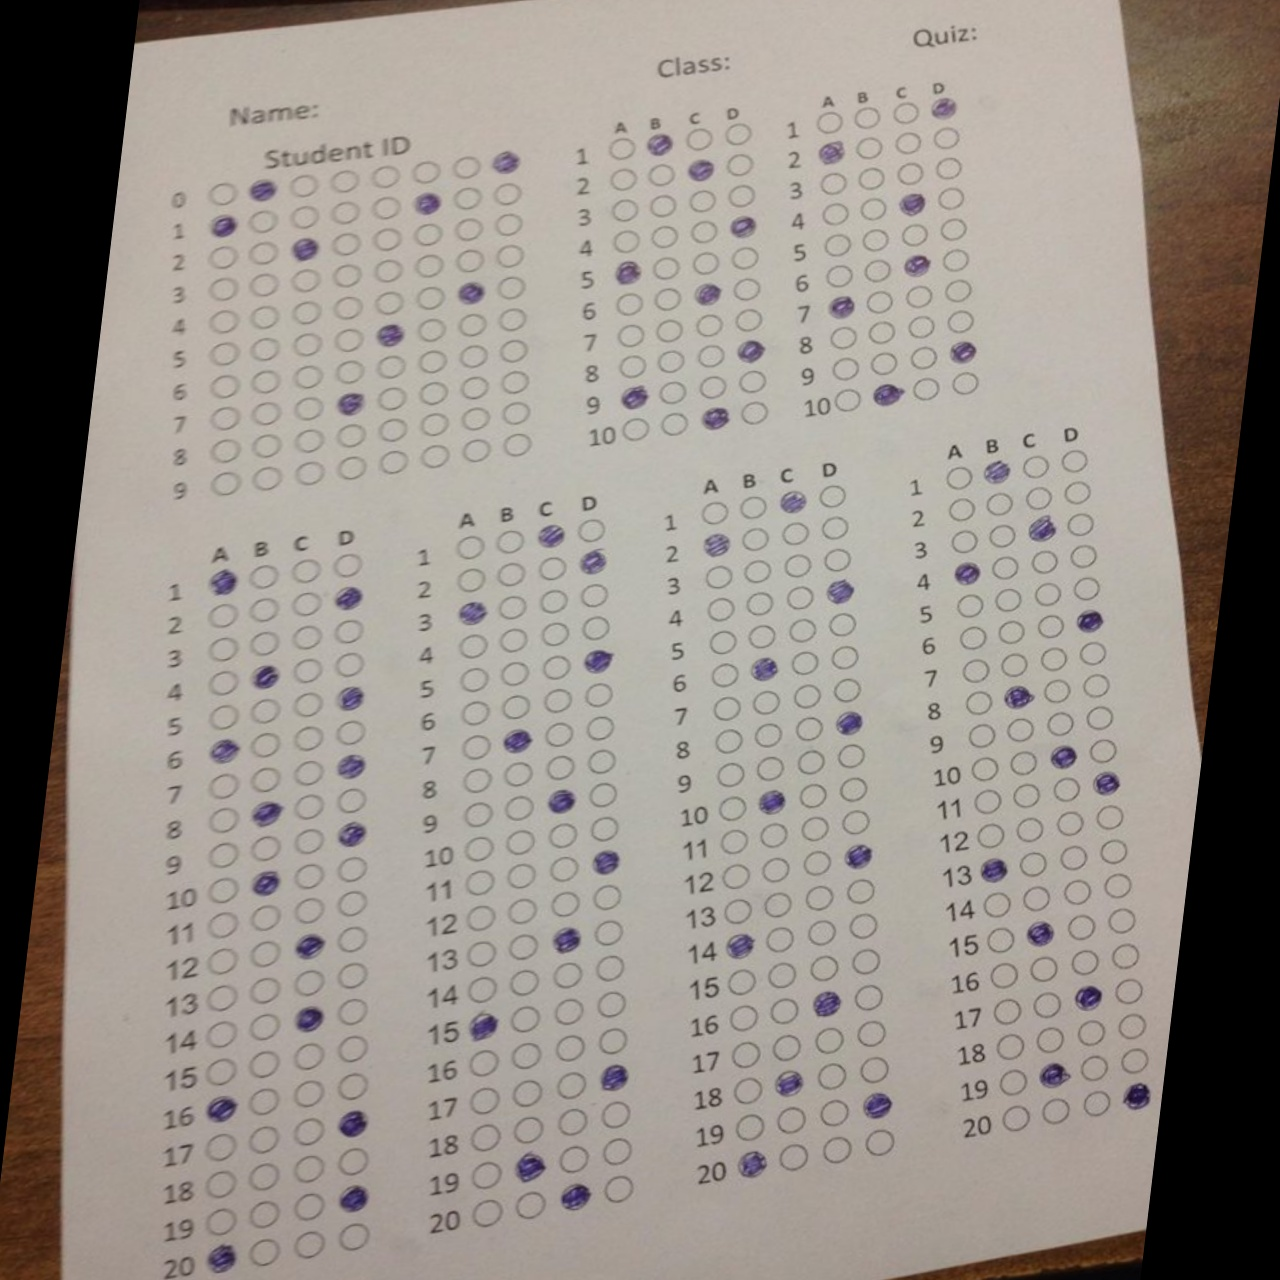not-c: (287, 1040, 328, 1074), (199, 1020, 241, 1051), (338, 1219, 375, 1253), (598, 1136, 636, 1169), (862, 1126, 900, 1159), (334, 853, 375, 884), (241, 1235, 282, 1266), (470, 1158, 505, 1193), (335, 1032, 372, 1065), (600, 1172, 636, 1206), (465, 1121, 503, 1153), (588, 919, 628, 949), (549, 998, 590, 1027), (817, 1096, 852, 1130), (506, 967, 544, 999), (549, 958, 586, 989), (509, 1077, 546, 1109), (811, 1061, 849, 1092), (772, 1105, 810, 1137), (202, 946, 240, 976), (246, 1159, 279, 1194), (204, 908, 241, 939), (246, 939, 284, 969), (334, 924, 372, 954), (333, 996, 370, 1027), (203, 1055, 240, 1085), (597, 1098, 634, 1129), (470, 1197, 508, 1227), (332, 420, 370, 449), (202, 983, 240, 1013), (544, 821, 584, 849), (726, 1039, 765, 1067), (247, 1012, 280, 1046), (554, 1107, 588, 1139), (588, 813, 624, 845), (553, 1034, 588, 1065), (459, 436, 496, 467), (293, 968, 329, 999), (465, 1046, 502, 1076), (511, 1115, 547, 1145), (512, 1191, 549, 1221), (805, 953, 842, 983), (770, 1034, 806, 1064), (245, 1050, 282, 1080), (464, 975, 502, 1005), (794, 779, 831, 809), (287, 656, 326, 685), (334, 962, 373, 990), (578, 683, 617, 712), (456, 767, 495, 795), (206, 1169, 239, 1201), (559, 1143, 593, 1175), (855, 1019, 888, 1050), (983, 925, 1017, 956), (338, 1073, 373, 1103), (293, 1228, 328, 1259), (799, 847, 835, 878), (763, 960, 798, 990), (334, 719, 370, 748), (291, 1155, 327, 1184), (246, 1200, 282, 1230), (842, 877, 878, 906), (847, 982, 884, 1012), (290, 794, 327, 822), (554, 1073, 592, 1101), (775, 1143, 812, 1171), (459, 869, 498, 896), (294, 1191, 327, 1223), (592, 881, 626, 912), (617, 350, 651, 381), (930, 122, 964, 152), (942, 461, 976, 491), (990, 996, 1024, 1027), (376, 448, 411, 477), (336, 1148, 372, 1177), (1039, 1097, 1074, 1126), (461, 906, 501, 932), (544, 754, 580, 782), (508, 1041, 544, 1069), (203, 179, 240, 206), (204, 843, 241, 870), (291, 896, 328, 922), (546, 892, 584, 919), (587, 747, 620, 777), (1115, 1014, 1148, 1044), (414, 285, 448, 314), (290, 590, 324, 619), (204, 1206, 238, 1235), (455, 629, 489, 659), (501, 794, 535, 823), (607, 196, 641, 225), (840, 808, 874, 837), (764, 926, 798, 955), (1119, 1046, 1153, 1075), (290, 557, 325, 585), (206, 806, 241, 835), (248, 976, 284, 1005), (506, 932, 542, 960), (723, 152, 758, 181), (692, 343, 727, 372), (799, 813, 835, 842), (758, 892, 794, 920), (801, 885, 836, 913), (846, 913, 881, 941), (730, 1077, 765, 1105), (1109, 942, 1144, 971), (247, 699, 284, 726), (205, 772, 241, 799), (502, 863, 538, 890), (250, 433, 287, 458), (535, 588, 572, 614), (454, 666, 491, 692), (542, 723, 579, 749), (726, 1005, 763, 1030), (1082, 1088, 1114, 1118), (250, 764, 282, 794), (248, 1125, 281, 1155), (697, 374, 730, 403), (251, 463, 285, 491), (336, 788, 370, 816), (495, 560, 529, 588), (499, 661, 533, 689), (459, 801, 493, 829), (768, 998, 802, 1026), (857, 1056, 891, 1084), (949, 368, 983, 396), (1019, 452, 1053, 481), (986, 520, 1020, 549), (1064, 510, 1098, 538), (1068, 947, 1102, 975), (1032, 990, 1065, 1019), (1111, 978, 1145, 1006), (734, 370, 772, 395), (370, 258, 406, 285), (331, 327, 366, 354), (247, 833, 282, 860), (246, 1087, 281, 1114), (492, 527, 527, 554), (713, 762, 748, 789), (979, 892, 1014, 919), (1026, 956, 1061, 983), (456, 311, 492, 336), (204, 703, 240, 729), (290, 693, 326, 719), (292, 829, 328, 855), (578, 617, 614, 642), (539, 689, 576, 715), (687, 222, 723, 247), (846, 949, 883, 975), (204, 1131, 236, 1160), (742, 557, 774, 586), (823, 1135, 855, 1164), (294, 862, 327, 890), (335, 890, 368, 918), (502, 760, 535, 788), (505, 898, 538, 926), (469, 1087, 502, 1115), (647, 159, 680, 188), (704, 629, 737, 658), (962, 687, 995, 715), (987, 961, 1020, 989), (995, 1068, 1028, 1096), (496, 305, 530, 332), (248, 561, 282, 588), (333, 550, 367, 577), (248, 903, 282, 930), (594, 953, 628, 980), (595, 990, 629, 1017), (723, 120, 757, 147), (709, 695, 743, 722), (794, 715, 828, 742), (833, 742, 867, 769), (720, 897, 754, 924), (967, 755, 1001, 782), (1092, 805, 1126, 832), (1078, 1054, 1112, 1081), (376, 417, 411, 443), (499, 401, 535, 427), (293, 459, 328, 485), (206, 877, 241, 903), (502, 830, 537, 856), (735, 495, 770, 520), (810, 1028, 845, 1054), (457, 701, 493, 726), (802, 920, 838, 945), (503, 430, 533, 459), (946, 306, 976, 335), (247, 237, 279, 265), (333, 358, 365, 386), (542, 621, 573, 649), (586, 782, 618, 810), (597, 1027, 628, 1055), (685, 127, 716, 155), (651, 254, 682, 282), (655, 345, 687, 373), (832, 675, 864, 703), (1103, 873, 1135, 901), (248, 338, 281, 365), (292, 363, 325, 390), (461, 406, 493, 433), (576, 515, 608, 542), (501, 694, 533, 721), (611, 229, 644, 256), (692, 313, 724, 340), (706, 595, 738, 622), (788, 617, 821, 644), (826, 611, 859, 638), (1080, 670, 1112, 697), (1046, 710, 1078, 737), (1065, 915, 1098, 942), (999, 1105, 1032, 1132), (204, 605, 241, 628), (369, 162, 403, 188), (372, 291, 406, 316), (459, 345, 493, 370), (207, 408, 241, 434), (211, 471, 245, 497), (336, 457, 370, 483), (420, 443, 454, 469), (207, 636, 241, 662), (578, 584, 612, 610), (497, 627, 531, 653), (726, 183, 760, 209), (647, 224, 681, 250), (744, 624, 778, 649), (750, 692, 784, 717), (712, 727, 745, 753), (753, 755, 787, 781), (823, 264, 857, 290), (1069, 576, 1103, 601), (1035, 647, 1069, 673), (1075, 641, 1109, 667), (1085, 738, 1119, 764), (851, 104, 885, 130), (410, 159, 445, 184), (370, 226, 406, 251), (290, 268, 325, 293), (290, 626, 325, 651), (737, 401, 772, 425), (867, 350, 903, 375), (294, 758, 325, 787), (1000, 651, 1030, 679), (205, 243, 237, 270), (459, 373, 491, 400), (248, 595, 280, 622), (293, 1080, 325, 1107), (510, 1005, 542, 1032), (687, 188, 719, 215), (733, 308, 764, 335), (741, 523, 772, 550), (837, 776, 869, 803), (906, 345, 938, 372), (946, 495, 978, 522), (1029, 549, 1061, 576), (1068, 544, 1099, 571), (1035, 613, 1067, 640), (975, 821, 1007, 847), (1016, 850, 1048, 877), (1034, 1026, 1065, 1053), (452, 185, 485, 211), (248, 305, 281, 331), (333, 651, 366, 676), (459, 735, 492, 761), (779, 522, 812, 547), (822, 546, 855, 572), (753, 724, 785, 750), (719, 830, 751, 856), (949, 529, 982, 554), (1032, 581, 1064, 607), (959, 658, 992, 683), (972, 788, 1005, 813), (1053, 810, 1085, 836), (993, 1034, 1026, 1060), (413, 254, 447, 279), (207, 341, 241, 366), (292, 397, 326, 422), (248, 632, 282, 656), (329, 171, 365, 195), (331, 264, 366, 287), (206, 375, 241, 399), (209, 440, 244, 463), (794, 682, 823, 710), (719, 794, 748, 822), (825, 326, 860, 349), (1012, 782, 1041, 810), (417, 316, 448, 343), (454, 533, 484, 560), (465, 940, 496, 967), (762, 855, 792, 881), (958, 624, 988, 651), (1053, 776, 1083, 803), (1062, 880, 1092, 907), (290, 173, 321, 199), (492, 182, 524, 207), (248, 272, 280, 298), (333, 621, 365, 647), (294, 726, 326, 751), (549, 857, 580, 883), (690, 251, 722, 277), (729, 246, 761, 272), (612, 292, 644, 318), (615, 324, 647, 349), (653, 316, 685, 342), (699, 498, 730, 524), (816, 483, 847, 509), (819, 516, 851, 542), (783, 552, 815, 578), (728, 968, 760, 994), (731, 1114, 763, 1139), (888, 100, 920, 125), (891, 130, 922, 156), (857, 166, 888, 192), (937, 185, 968, 211), (905, 316, 937, 342), (990, 556, 1022, 581), (411, 223, 444, 247), (495, 275, 527, 300), (292, 333, 325, 358), (295, 428, 328, 452), (418, 411, 451, 436), (729, 278, 762, 302), (789, 648, 822, 673), (932, 156, 965, 181), (818, 202, 851, 226), (660, 411, 694, 435), (744, 593, 778, 617), (859, 229, 893, 252), (1012, 817, 1046, 840), (1022, 884, 1050, 912), (501, 338, 530, 365), (785, 585, 815, 612), (543, 656, 573, 682), (463, 836, 493, 862), (758, 822, 789, 847), (720, 863, 750, 888), (942, 277, 973, 302), (1076, 1020, 1107, 1046), (206, 277, 241, 299), (372, 195, 403, 219), (454, 250, 485, 274), (333, 297, 365, 321), (585, 716, 617, 741), (649, 195, 681, 219), (1009, 750, 1041, 775), (291, 302, 324, 326), (817, 171, 850, 195), (938, 217, 971, 240), (1003, 719, 1036, 742), (295, 1118, 324, 1145), (492, 215, 526, 237), (618, 417, 652, 440), (908, 377, 942, 400), (450, 155, 479, 181), (498, 595, 527, 621), (660, 380, 689, 406), (832, 386, 862, 411), (1109, 906, 1138, 932), (375, 355, 406, 380), (211, 670, 241, 695), (831, 646, 862, 670), (1061, 450, 1091, 475), (967, 722, 998, 747), (1083, 704, 1114, 729), (816, 111, 847, 135), (866, 320, 898, 343), (829, 358, 860, 381), (331, 234, 363, 257), (207, 311, 240, 333), (379, 388, 407, 414), (499, 372, 527, 397), (986, 490, 1014, 516), (1058, 845, 1087, 871), (250, 402, 279, 427), (709, 663, 738, 688), (866, 290, 896, 314), (1043, 679, 1073, 703), (418, 382, 449, 406), (538, 554, 568, 578), (1026, 486, 1056, 510), (993, 588, 1023, 612), (290, 206, 321, 229), (1099, 839, 1126, 865), (252, 368, 280, 393), (457, 568, 490, 590), (610, 138, 638, 163), (610, 166, 638, 191), (332, 200, 361, 224), (253, 734, 282, 757), (857, 198, 886, 222), (864, 259, 893, 282), (904, 286, 933, 309), (899, 223, 930, 245), (996, 622, 1027, 645), (654, 288, 681, 313), (452, 218, 481, 241), (248, 209, 278, 231), (493, 246, 523, 268), (893, 163, 922, 185), (824, 234, 853, 257), (1064, 482, 1095, 503), (704, 565, 731, 588), (795, 751, 823, 774), (855, 137, 883, 159), (956, 594, 985, 617), (418, 350, 448, 372), (939, 250, 968, 270)
taken-c: (336, 1180, 377, 1216), (1071, 983, 1111, 1017), (576, 546, 617, 579), (200, 1240, 238, 1275), (248, 659, 287, 693), (336, 1108, 375, 1141), (542, 787, 583, 817), (464, 1008, 505, 1039), (290, 934, 332, 964), (558, 1180, 593, 1216), (734, 1150, 770, 1182), (549, 926, 586, 956), (1071, 606, 1111, 634), (1023, 919, 1058, 951), (859, 1091, 896, 1122), (1118, 1082, 1155, 1112), (513, 1152, 551, 1182), (721, 934, 758, 964), (292, 1005, 326, 1036), (809, 990, 843, 1022), (1048, 743, 1083, 774), (334, 822, 370, 851), (203, 1092, 239, 1122), (594, 1063, 631, 1092), (1024, 515, 1061, 544), (1036, 1060, 1074, 1088), (1088, 771, 1126, 798), (772, 1069, 806, 1099), (690, 280, 726, 309), (206, 568, 241, 598), (207, 736, 243, 765), (333, 753, 368, 782), (581, 647, 617, 676), (335, 687, 372, 715), (823, 578, 860, 605), (840, 844, 881, 869), (491, 149, 526, 177), (288, 236, 324, 264), (947, 338, 982, 366), (617, 388, 653, 415), (869, 383, 905, 410), (1002, 685, 1039, 712), (978, 855, 1014, 881), (745, 656, 783, 682), (252, 869, 284, 899), (901, 252, 935, 280), (372, 325, 408, 350), (982, 456, 1013, 486), (414, 191, 445, 220), (736, 339, 768, 368), (536, 520, 568, 549), (949, 561, 983, 588), (501, 728, 536, 754), (824, 294, 856, 322), (699, 407, 731, 434), (812, 142, 850, 165), (688, 158, 722, 184), (333, 588, 367, 614), (332, 393, 368, 416), (207, 213, 240, 239), (930, 95, 962, 121), (458, 280, 490, 306), (727, 213, 760, 238), (897, 195, 930, 219), (248, 801, 282, 824), (457, 599, 491, 622), (591, 847, 620, 874), (646, 131, 676, 157), (613, 259, 642, 285), (758, 788, 788, 813), (835, 710, 865, 735), (699, 533, 731, 556), (779, 489, 808, 515), (250, 178, 280, 200)
